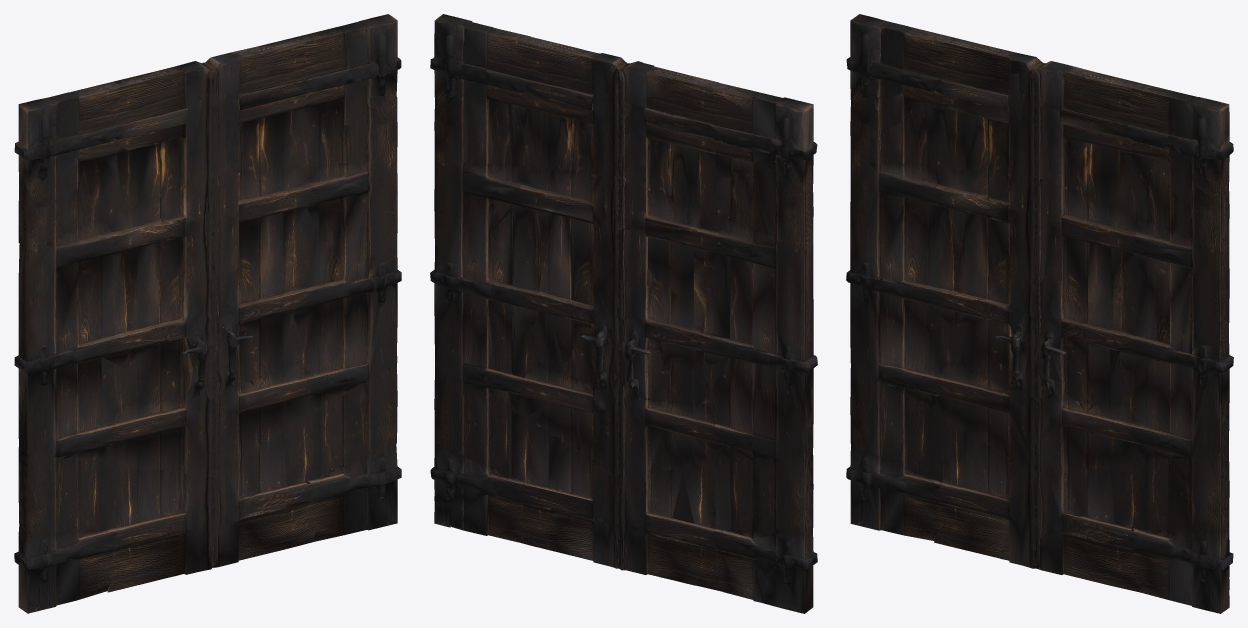
The model's file is vault_door.glb.
3 renders of one model, left to right at view 1: azimuth 30°, elevation 25°; view 2: azimuth 150°, elevation 25°; view 3: azimuth 330°, elevation 25°, orthographic.
Visible parts, largest first — view 1: Mesh_0; view 2: Mesh_0; view 3: Mesh_0.
Part boxes in pixels (x1,y1,x2,y2): Mesh_0: (14,14,401,613); Mesh_0: (430,14,817,613); Mesh_0: (846,14,1233,613).
Bounding box in the file's own units: 1.49 × 1.9 × 0.1568.
Materials: 1 (1 with a texture image).
